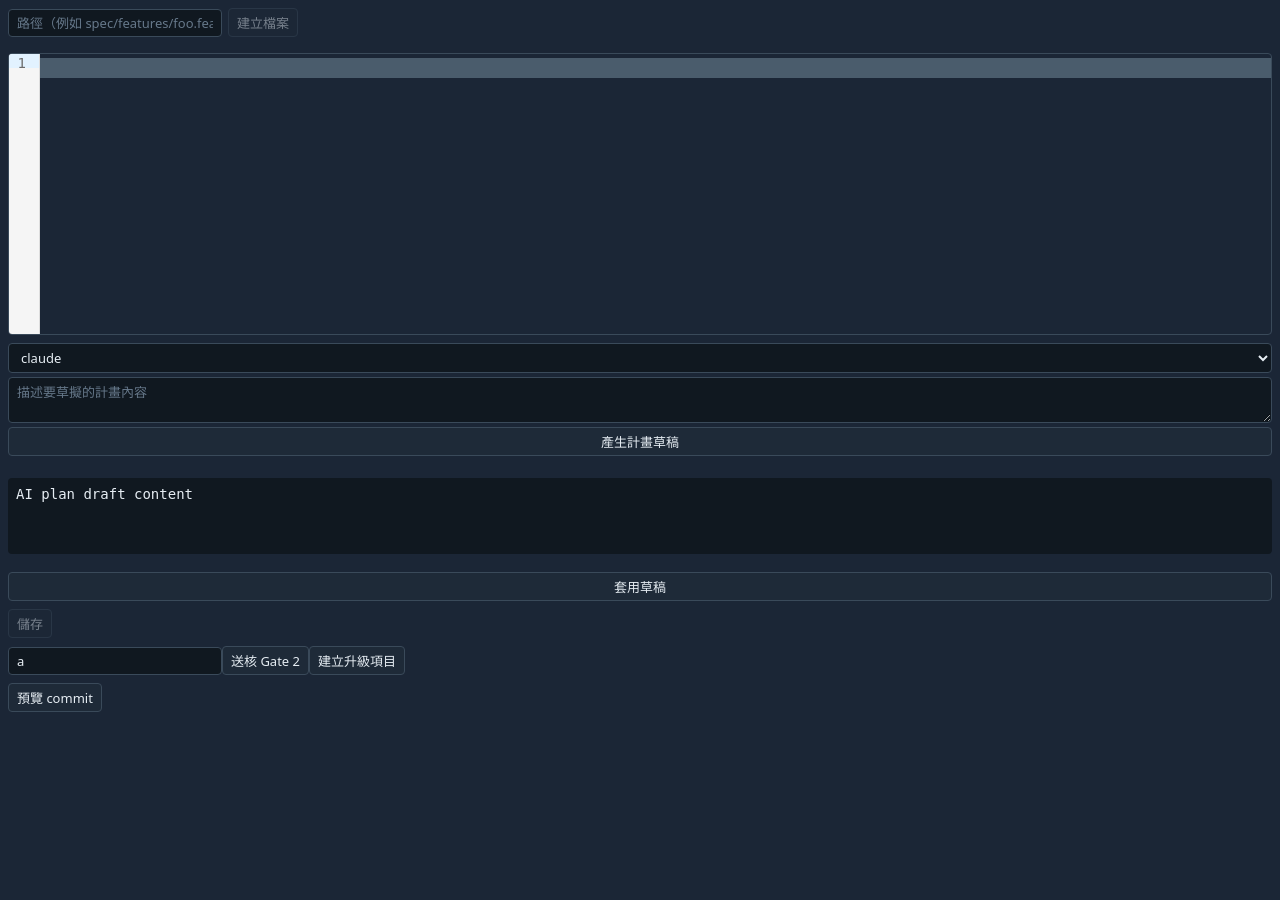
Scenario: PlanWorkspace › 驗證錯誤（PlanWrite 樂觀鎖衝突）inline 顯示，原樣不吞
Click the button with test id "apply-draft": (640, 586) [8,572,1272,601]
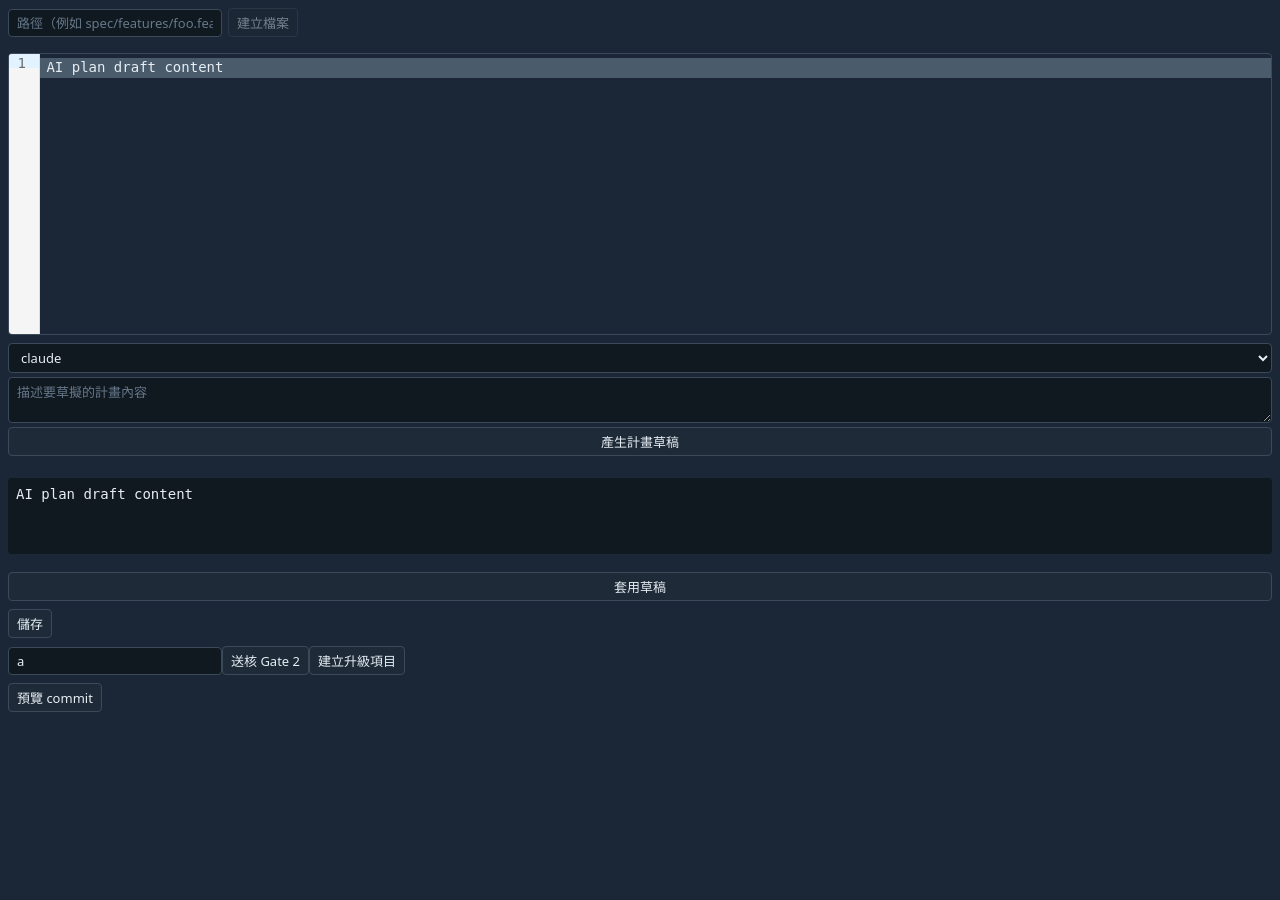
Click the button with test id "save": (30, 624) [8,609,52,638]
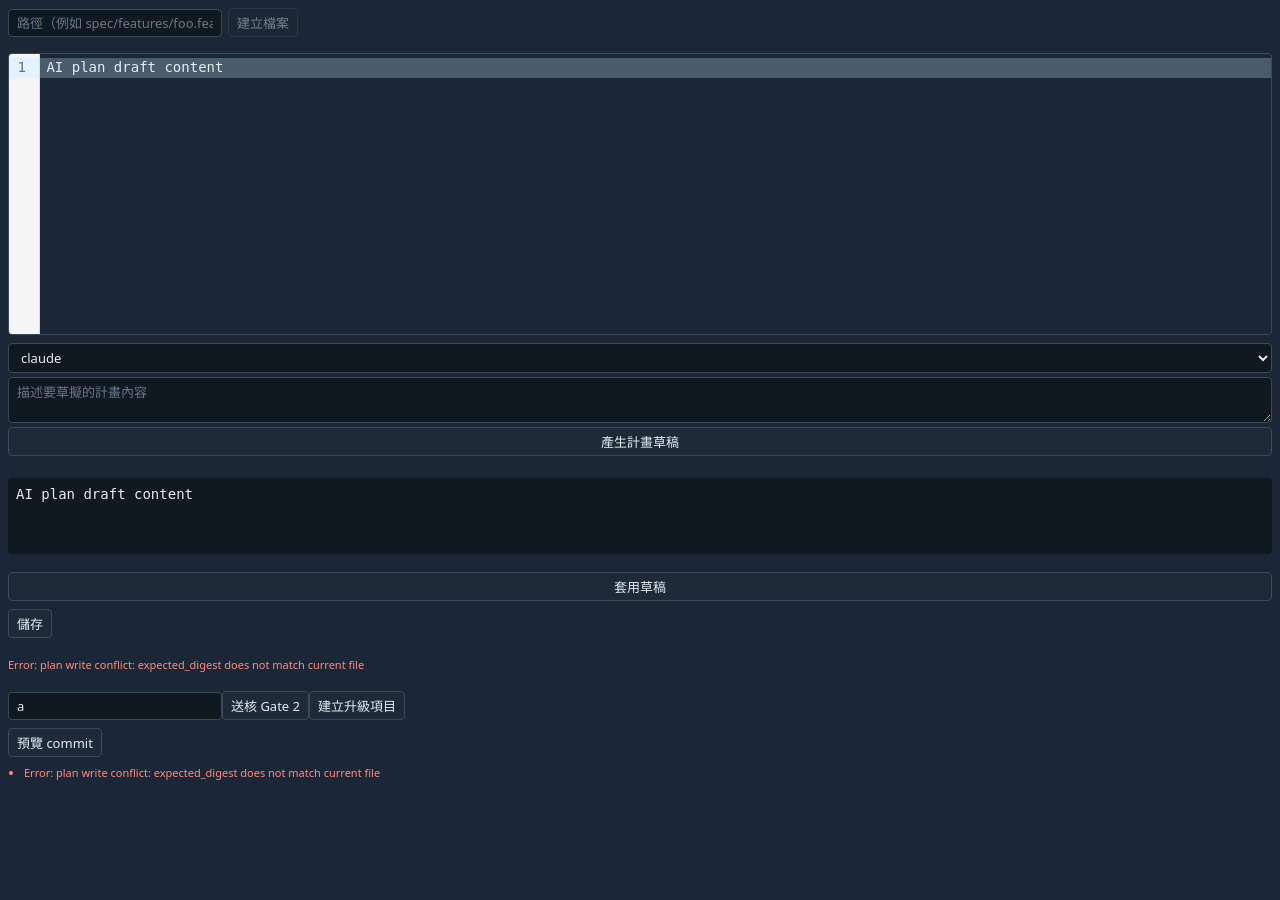
Expected: the list with test id "plan-errors" shows "plan write conflict: expected_digest does not match current file", [24,765,380,780]
